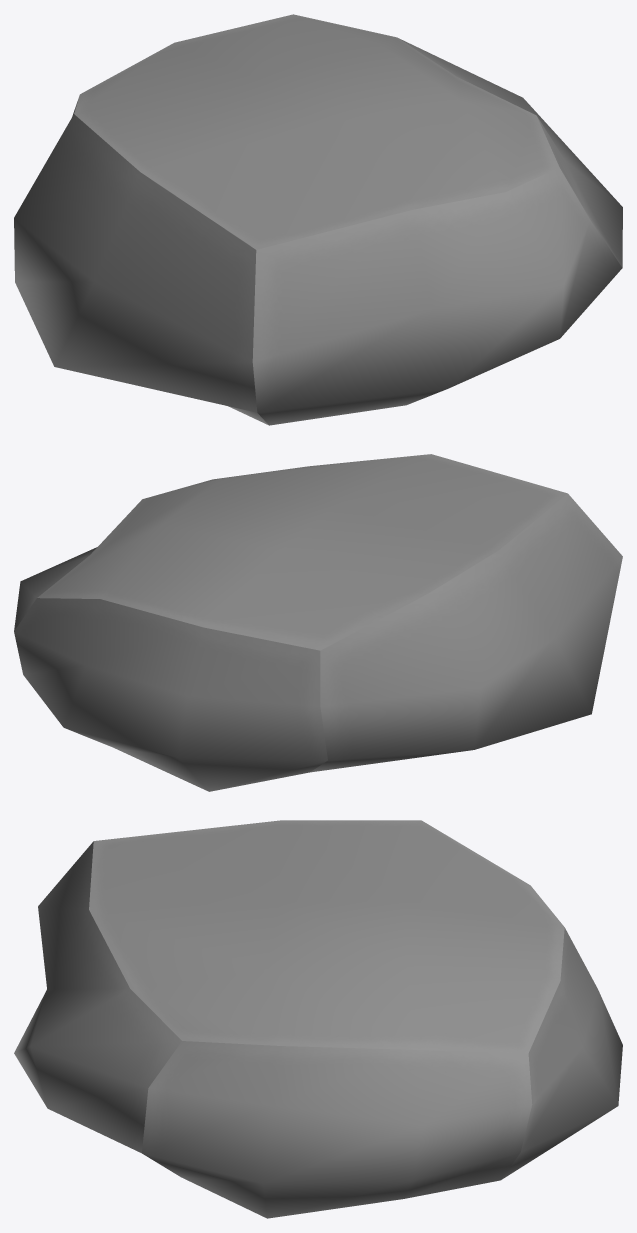
The model's file is stone_001.fbx.
3 views of the same model, one above another, from view 1: azimuth 30°, elevation 25°; view 2: azimuth 150°, elevation 25°; view 3: azimuth 270°, elevation 25° (orthographic). The views are drawn at different scales.
Visible parts, largest first — view 1: stone_geo; view 2: stone_geo; view 3: stone_geo.
Boxes of the visible parts, x1=… form: stone_geo: x1=14, y1=14, x2=622, y2=425; stone_geo: x1=14, y1=454, x2=622, y2=791; stone_geo: x1=14, y1=820, x2=622, y2=1218.
Size of the model in its own units: 0.8134 by 0.3107 by 0.7795.
